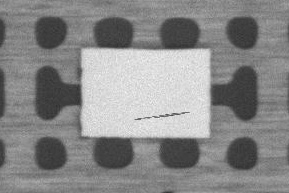DIE_INK: (199, 74, 288, 81)
